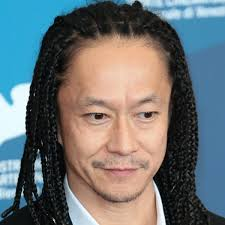asian_male: (48, 73, 192, 200)
